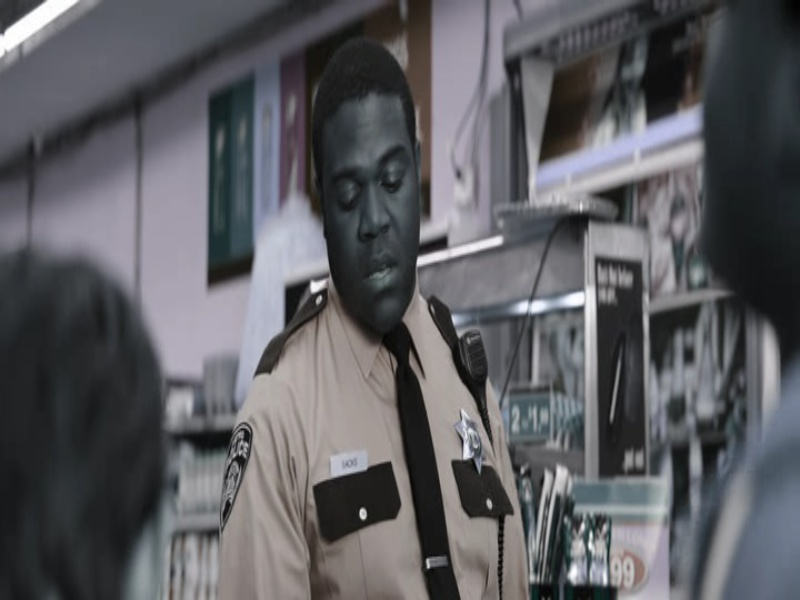TsisyArotava: (300, 74, 441, 341)
